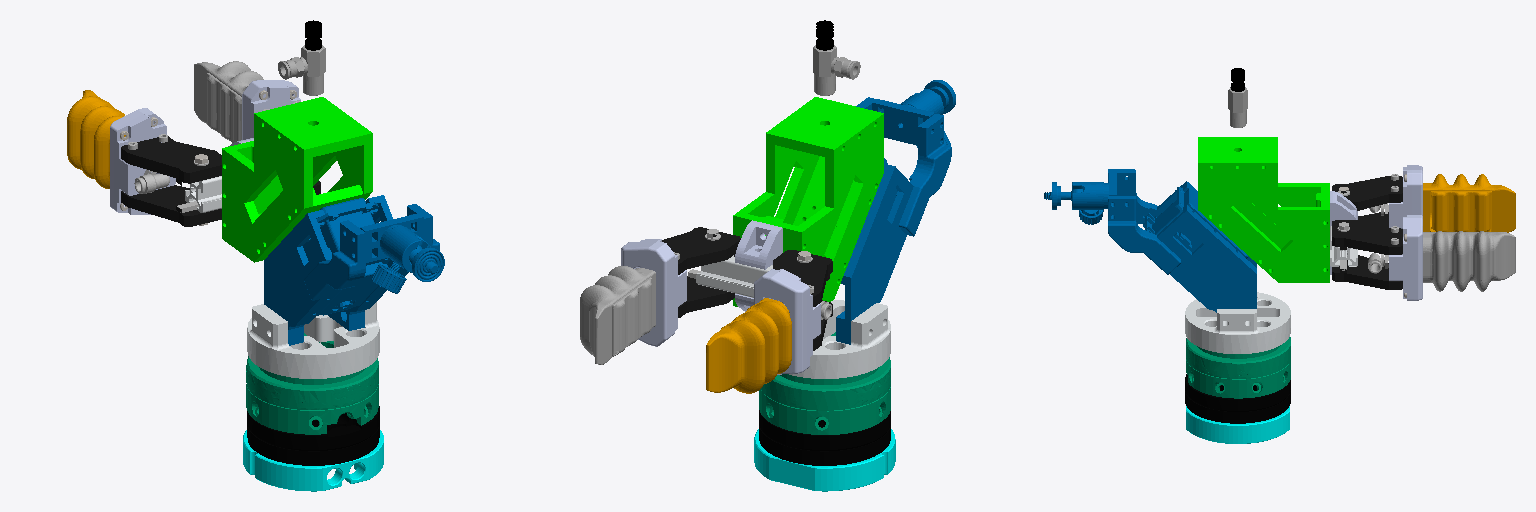
robot.urdf — twintool:
<?xml version="1.0"?>
<robot name="twintool">
	<link name="00_manifold">
		<visual>
			<origin rpy="0.0 3.1415 3.1415" xyz="0 0 0" />
			<geometry>
				<mesh filename="package://motoman_description/meshes/twintool/00_ManifoldV2.dae" />
			</geometry>
		</visual>
	</link>
	<joint name="manifold_to_robotiq-fts-300_adapter" type="fixed">
		<parent link="00_manifold" />
		<child link="01_robotiq-fts-300_adapter" />
		<origin xyz="0 0 0.015" />
	</joint>
	<link name="01_robotiq-fts-300_adapter">
		<visual>
			<origin rpy="0.0 0 0" xyz="0 0 0" />
			<geometry>
				<mesh filename="package://motoman_description/meshes/twintool/01_ROBOTIQ_FTS-300_ADAPTER.dae" />
			</geometry>
		</visual>
	</link>
	<joint name="robotiq-fts-300_adapter_to_robotiq-fts-300" type="fixed">
		<parent link="01_robotiq-fts-300_adapter" />
		<child link="02_robotiq-fts-300" />
		<origin xyz="0.0375 -0.0375 0.05431" />
	</joint>
	<link name="02_robotiq-fts-300">
		<visual>
			<origin rpy="0.0 3.1415 0" xyz="0 0 0" />
			<geometry>
				<mesh filename="package://motoman_description/meshes/twintool/02_ROBOTIQ_FTS-300.STL" />
			</geometry>
		</visual>
	</link>	
	<joint name="robotiq-fts-300_to_mee-base" type="fixed">
		<parent link="02_robotiq-fts-300" />
		<child link="03.5_mee-base" />
		<origin xyz="-0.0375 0.0375 0" />
	</joint>
	<link name="03.5_mee-base">
		<visual>
			<origin rpy="0.0 0 0.3926875" xyz="0 0 0" />
			<geometry>
				<mesh filename="package://motoman_description/meshes/twintool/03.5_Modular End Effector_Base_V2.dae" />
			</geometry>
		</visual>
	</link>
	<joint name="mee-base_to_mee-mx106-assembly" type="fixed">
		<parent link="03.5_mee-base" />
		<child link="05-1_mee-mx106-assembly" />
		<origin xyz="-0.03 0.01325 0.015" />
	</joint>
	<link name="05-1_mee-mx106-assembly">
		<visual>
			<origin rpy="0 -1.57075 3.1415" xyz="0 0 0" />
			<geometry>
				<mesh filename="package://motoman_description/meshes/twintool/05-Modular End Effector_MX-106_Assembly.STL" />
			</geometry>
		</visual>
	</link>
	<!-- 3.5341875 -->
	<joint name="twintool_joint1" type="revolute">
		<axis xyz="0 0.70710678118 0.70710678118" />
		<limit effort="1000.0" lower="0.0" upper="3.15" velocity="0.5" />
		<parent link="05-1_mee-mx106-assembly" />
		<child link="06_mee-tool-base" />
		<origin xyz="0.03 -0.01325 0.0625" rpy="0 0 0" />
	</joint>
	<link name="06_mee-tool-base">
		<visual>
			<origin rpy="0 0 3.1415" xyz="0 0 0" />
			<geometry>
				<mesh filename="package://motoman_description/meshes/twintool/06-Modular End Effector_Tool Base.dae" />
			</geometry>
		</visual>
	</link>
	<joint name="mee-tool-base_to_vacuum-pad" type="fixed">
		<parent link="06_mee-tool-base" />
		<child link="07-0_vacuum-pad" />
		<origin xyz="0 0 0.1075" />
	</joint>
	<link name="07-0_vacuum-pad">
		<visual>
			<origin rpy="-1.57075 0 3.1415" xyz="0 0 0.01955" />
			<geometry>
				<mesh filename="package://motoman_description/meshes/twintool/07-0_VPB10WN_6J.dae" />
			</geometry>
		</visual>
	</link>
	<joint name="twintool_joint2_1" type="revolute">
		<axis xyz="0 0 1" />
		<limit effort="1000.0" lower="0" upper="0.6" velocity="0.5" />
		<parent link="06_mee-tool-base" />
		<child link="07-1-1_soft-robotics-gripper" />
		<origin xyz="0.0355 0.131 0" />
	</joint>
	<link name="07-1-1_soft-robotics-gripper">
		<visual>
			<origin rpy="0 0 0" xyz="-0.00325 0 -0.016" />
			<geometry>
				<mesh filename="package://motoman_description/meshes/twintool/07-1-1_SDK_M1FR-3Acc.STL" />
			</geometry>
		</visual>
	</link>
	<joint name="twintool_joint2_2" type="revolute">
		<axis xyz="0 0 1" />
		<limit effort="1000.0" lower="-0.6" upper="0" velocity="0.5" />
		<parent link="06_mee-tool-base" />
		<child link="07-1-2_soft-robotics-gripper" />
		<origin xyz="-0.0355 0.131 0" />
		<mimic joint="twintool_joint2_1" multiplier="-1" offset="0" />
	</joint>
	<link name="07-1-2_soft-robotics-gripper">
		<visual>
			<origin rpy="0 3.1415 0" xyz="0.00325 0 0" />
			<geometry>
				<mesh filename="package://motoman_description/meshes/twintool/07-1-2_SDK_M1FR-3Acc.STL" />
			</geometry>
		</visual>
	</link>	
	<link name="tool_center_point"/>
  	<joint name="tool0_tool_center_point_joint" type="fixed">
		<parent link="06_mee-tool-base" />
		<child link="tool_center_point" />
		<origin xyz="0 0.131 0" rpy="0 1.57075 1.57075"/>
	</joint> 
</robot>
<!-- -0.00226 -->

--- Render facts (derived) ---
Views: 3 orthographic renders of the robot side by side, from view 1: azimuth 30°, elevation 25°; view 2: azimuth 150°, elevation 25°; view 3: azimuth 270°, elevation 25°.
Model twintool with 10 links and 9 joints (3 revolute, 6 fixed), rooted at 00_manifold, posed all joints at 0.
Visible links, largest first — view 1: 06_mee-tool-base, 05-1_mee-mx106-assembly, 02_robotiq-fts-300, 03.5_mee-base, 01_robotiq-fts-300_adapter, 07-1-1_soft-robotics-gripper, 00_manifold, 07-1-2_soft-robotics-gripper, 07-0_vacuum-pad; view 2: 06_mee-tool-base, 05-1_mee-mx106-assembly, 02_robotiq-fts-300, 07-1-2_soft-robotics-gripper, 07-1-1_soft-robotics-gripper, 03.5_mee-base, 01_robotiq-fts-300_adapter, 00_manifold, 07-0_vacuum-pad; view 3: 06_mee-tool-base, 05-1_mee-mx106-assembly, 07-1-1_soft-robotics-gripper, 03.5_mee-base, 07-1-2_soft-robotics-gripper, 02_robotiq-fts-300, 01_robotiq-fts-300_adapter, 00_manifold, 07-0_vacuum-pad.
Link boxes in pixels (x1=…): 06_mee-tool-base: x1=110, y1=80, x2=372, y2=262; 05-1_mee-mx106-assembly: x1=264, y1=195, x2=444, y2=345; 02_robotiq-fts-300: x1=246, y1=333, x2=378, y2=434; 03.5_mee-base: x1=247, y1=302, x2=379, y2=378; 01_robotiq-fts-300_adapter: x1=247, y1=406, x2=379, y2=465; 07-1-1_soft-robotics-gripper: x1=194, y1=61, x2=263, y2=142; 00_manifold: x1=243, y1=430, x2=383, y2=491; 07-1-2_soft-robotics-gripper: x1=67, y1=90, x2=125, y2=188; 07-0_vacuum-pad: x1=278, y1=20, x2=325, y2=95; 06_mee-tool-base: x1=621, y1=97, x2=883, y2=374; 05-1_mee-mx106-assembly: x1=836, y1=80, x2=955, y2=344; 02_robotiq-fts-300: x1=759, y1=332, x2=890, y2=434; 07-1-2_soft-robotics-gripper: x1=706, y1=298, x2=791, y2=393; 07-1-1_soft-robotics-gripper: x1=580, y1=266, x2=655, y2=364; 03.5_mee-base: x1=789, y1=300, x2=890, y2=378; 01_robotiq-fts-300_adapter: x1=759, y1=410, x2=890, y2=465; 00_manifold: x1=754, y1=429, x2=895, y2=491; 07-0_vacuum-pad: x1=813, y1=20, x2=860, y2=95; 06_mee-tool-base: x1=1198, y1=137, x2=1422, y2=300; 05-1_mee-mx106-assembly: x1=1044, y1=169, x2=1256, y2=312; 07-1-1_soft-robotics-gripper: x1=1423, y1=231, x2=1515, y2=291; 03.5_mee-base: x1=1185, y1=292, x2=1290, y2=353; 07-1-2_soft-robotics-gripper: x1=1423, y1=174, x2=1515, y2=232; 02_robotiq-fts-300: x1=1186, y1=337, x2=1290, y2=398; 01_robotiq-fts-300_adapter: x1=1185, y1=374, x2=1290, y2=423; 00_manifold: x1=1186, y1=406, x2=1289, y2=443; 07-0_vacuum-pad: x1=1228, y1=68, x2=1247, y2=127.
Bounding box of the posed robot: 0.1208 × 0.334 × 0.2739 m (x, y, z).
Meshes: 9 distinct files referenced, 9 mesh visuals loaded (4 binary STL, 5 Collada DAE).